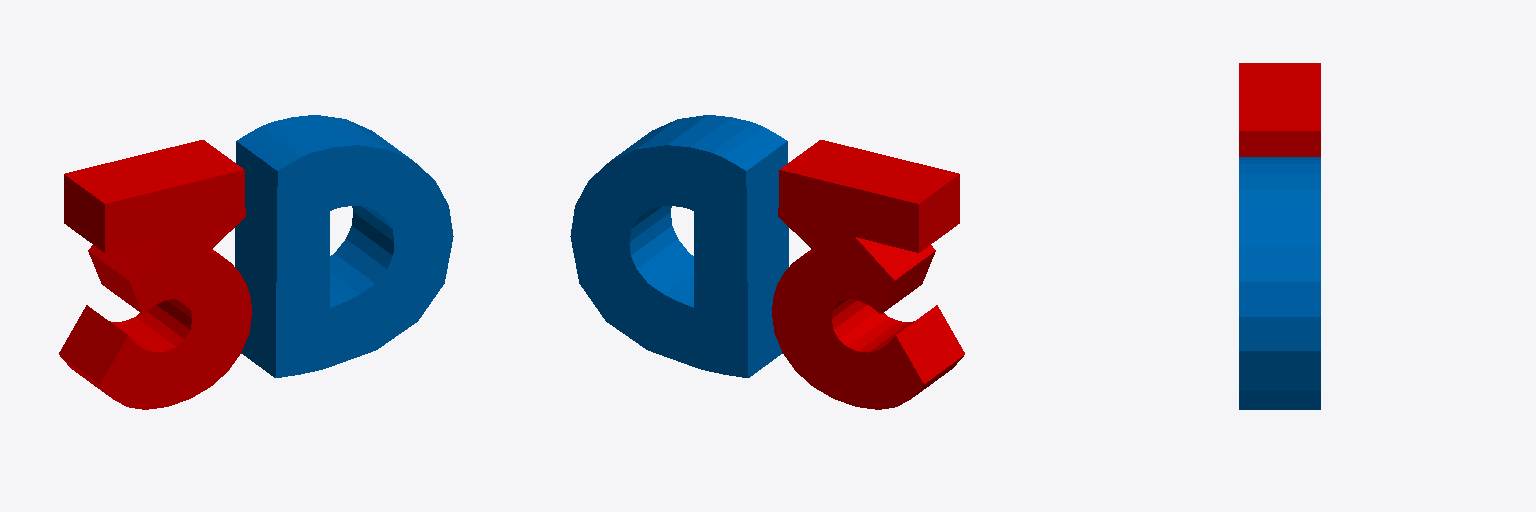
The picture shows the model from 3 angles: view 1: azimuth 30°, elevation 25°; view 2: azimuth 150°, elevation 25°; view 3: azimuth 270°, elevation 25°; orthographic projection.
Parts seen in each view (by area): view 1: text; view 2: text; view 3: text.
Part boxes in pixels (bbox=[...]): text: bbox=[59, 115, 453, 409]; text: bbox=[570, 115, 964, 409]; text: bbox=[1239, 63, 1320, 409].
Bounding box in the file's own units: 1.48 × 0.8778 × 0.3.
1 materials, 1 textured.